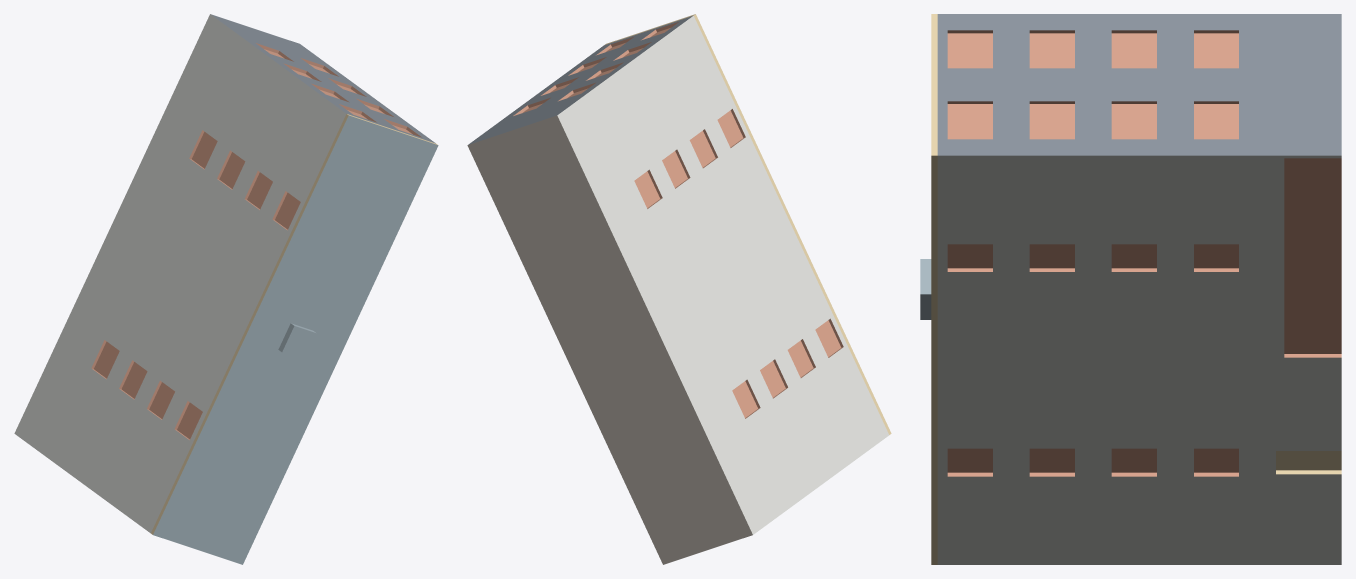
Rendered from doitt-498980__lod_0.glb.
The picture shows the model from 3 angles, left to right: view 1: azimuth 30°, elevation 25°; view 2: azimuth 150°, elevation 25°; view 3: azimuth 270°, elevation 25°; orthographic projection. The views are drawn at different scales.
Size of the model in its own units: 20.95 by 29.7 by 18.08.
